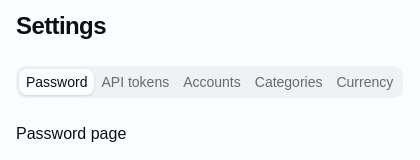
Scenario: SettingsLayout › navigates to another subpage when its tab is clicked
The image size is (420, 160).
Expected: the text "Password page" is shown, x1=16 y1=125 x2=126 y2=142
Click the tab "Categories". click: [289, 82]
box: x1=248 y1=69 x2=330 y2=95
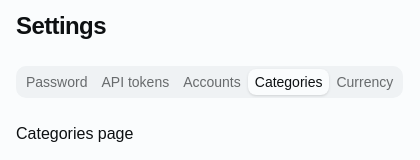
Expected: the text "Categories page" is shown, x1=16 y1=125 x2=133 y2=142
